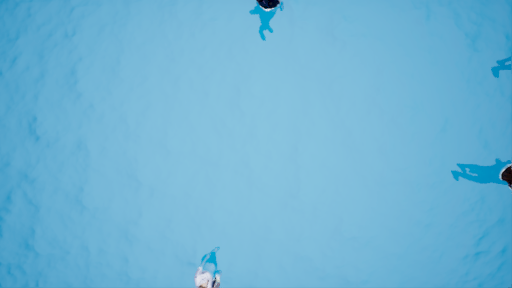person: (195, 248, 224, 288)
